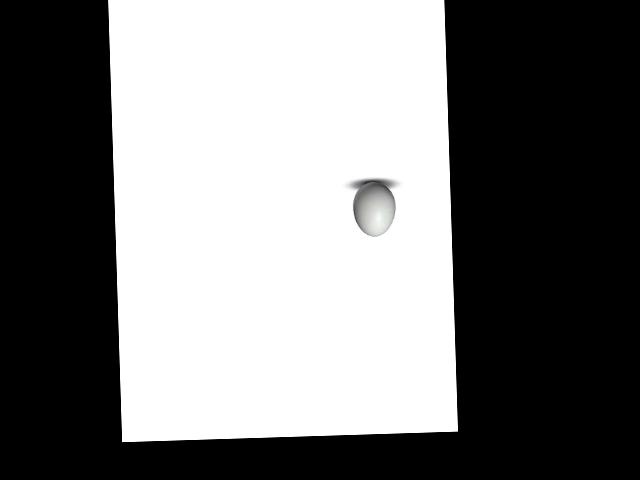egg: (353, 181, 396, 237)
